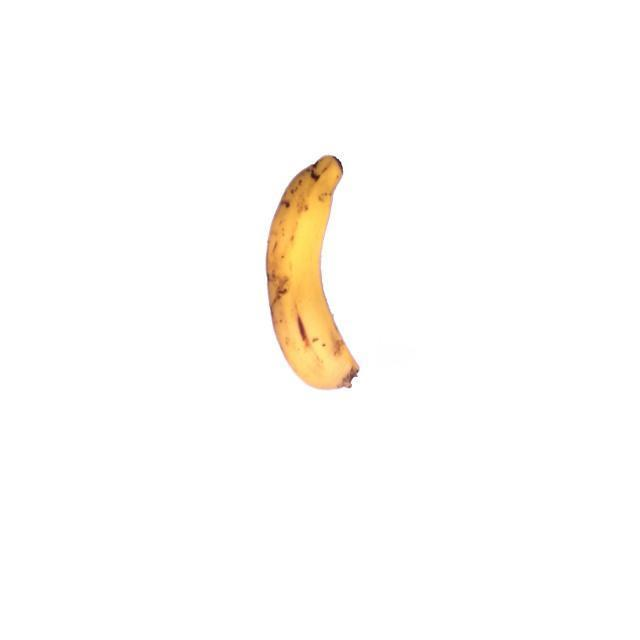Banana: (262, 152, 360, 394)
